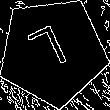L_SE: (28, 22, 77, 81)
